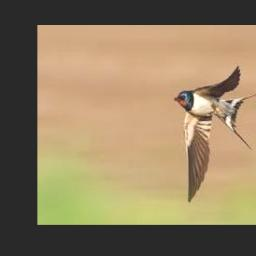Swallow: (173, 66, 256, 203)
